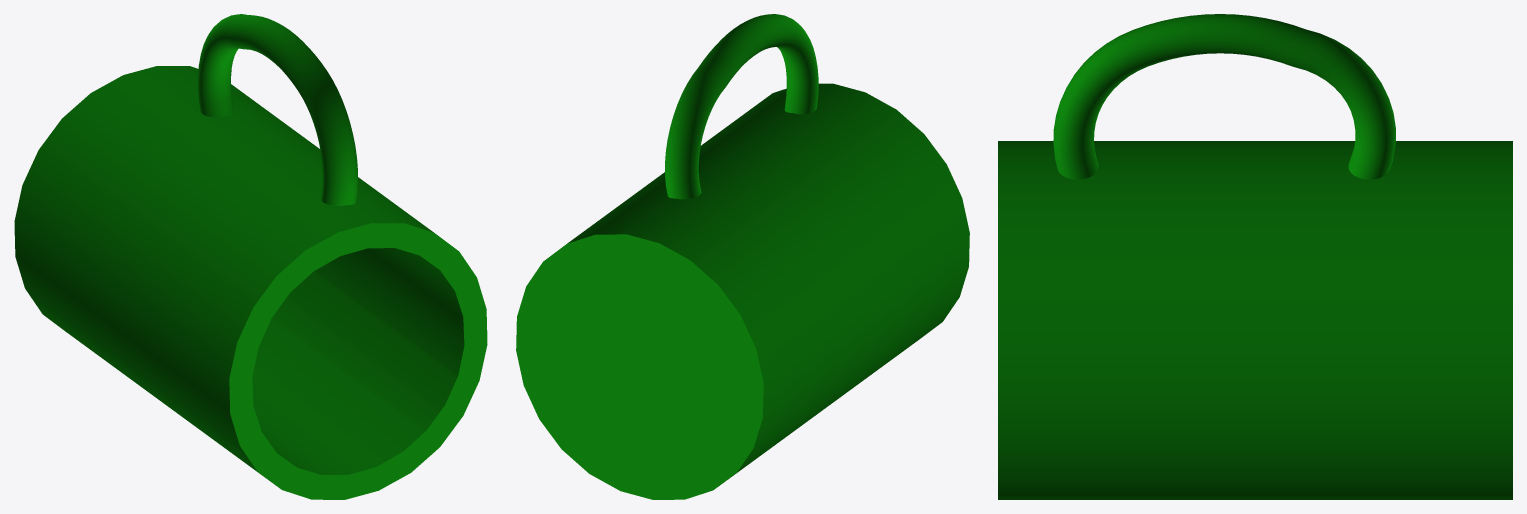
Rendered from model_align.obj.
The picture shows the model from 3 angles, left to right: view 1: azimuth 30°, elevation 25°; view 2: azimuth 150°, elevation 25°; view 3: azimuth 270°, elevation 25°; orthographic projection. The views are drawn at different scales.
Visible parts, largest first — view 1: mesh1_mesh1-geometry, mesh2_mesh2-geometry; view 2: mesh1_mesh1-geometry, mesh2_mesh2-geometry; view 3: mesh1_mesh1-geometry, mesh2_mesh2-geometry.
Boxes of the visible parts, x1,y1,x2,y2 form: mesh1_mesh1-geometry: (14,66,487,499); mesh2_mesh2-geometry: (198,14,357,205); mesh1_mesh1-geometry: (516,83,969,499); mesh2_mesh2-geometry: (665,14,818,199); mesh1_mesh1-geometry: (998,141,1512,499); mesh2_mesh2-geometry: (1053,14,1395,179).
Bounding box in the file's own units: 0.0707 × 0.1037 × 0.1019.
